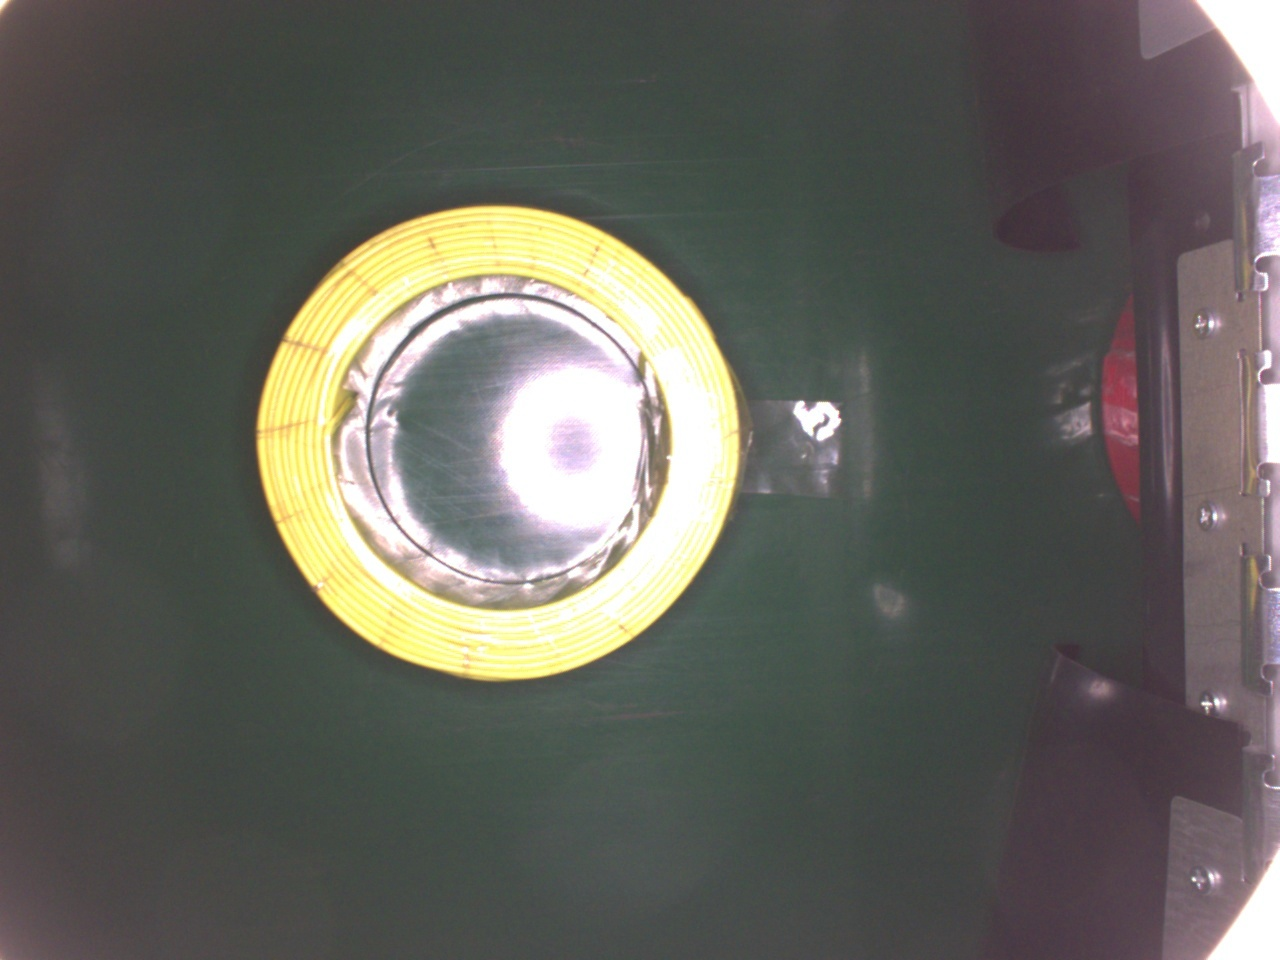yellow: (255, 202, 742, 685)
